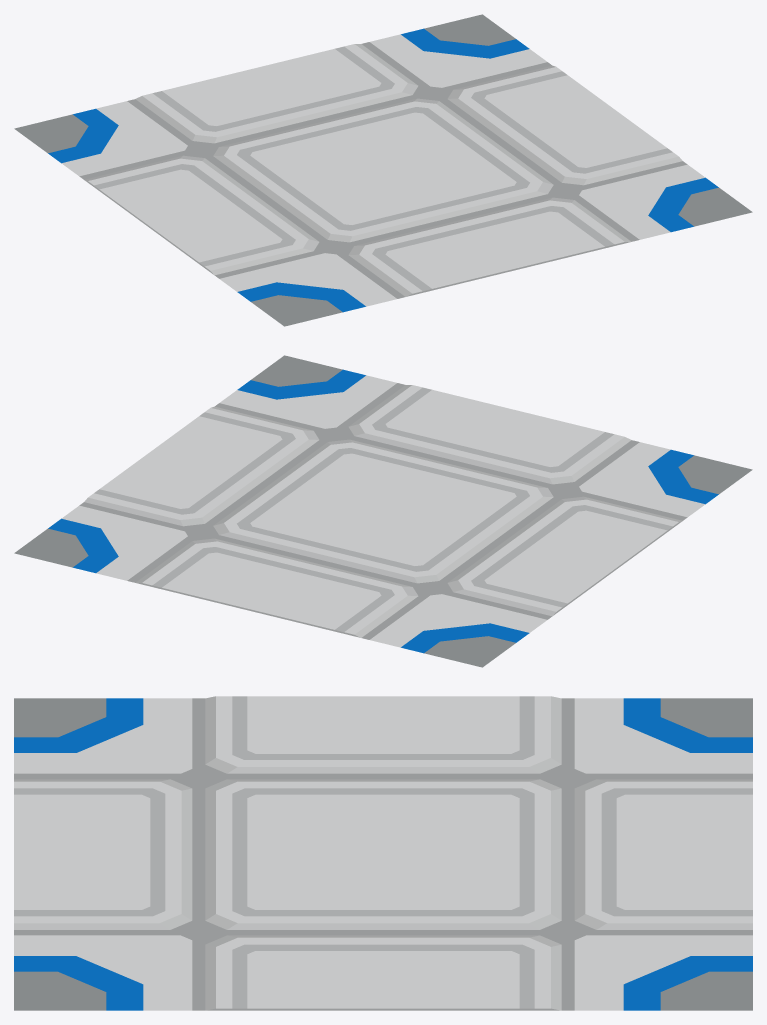
The model's file is Floor_type_A_023.glb.
3 renders of one model, top to bottom at view 1: azimuth 30°, elevation 25°; view 2: azimuth 150°, elevation 25°; view 3: azimuth 270°, elevation 25°, orthographic. The views are drawn at different scales.
Parts seen in each view (by area): view 1: Floor_type_A_023; view 2: Floor_type_A_023; view 3: Floor_type_A_023.
Boxes of the visible parts, bbox=[...] form: Floor_type_A_023: bbox=[14, 14, 752, 326]; Floor_type_A_023: bbox=[14, 355, 752, 667]; Floor_type_A_023: bbox=[14, 696, 752, 1010].
Size of the model in its own units: 4 by 0.0134 by 4.
Materials: 2 (2 with a texture image).
